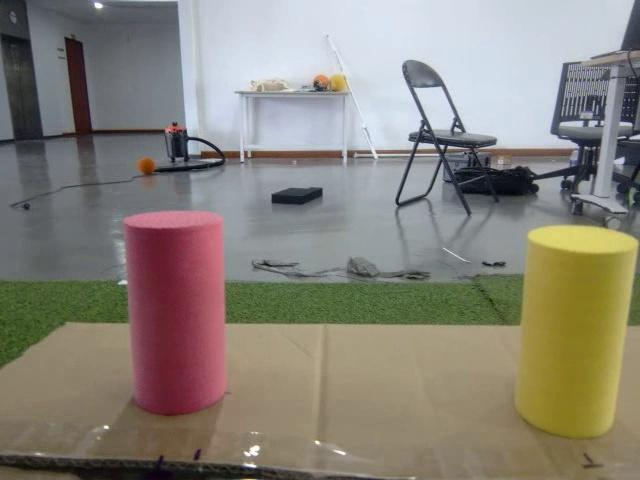red_cylinder: (122, 210, 226, 415)
yellow_cylinder: (518, 225, 636, 436)
